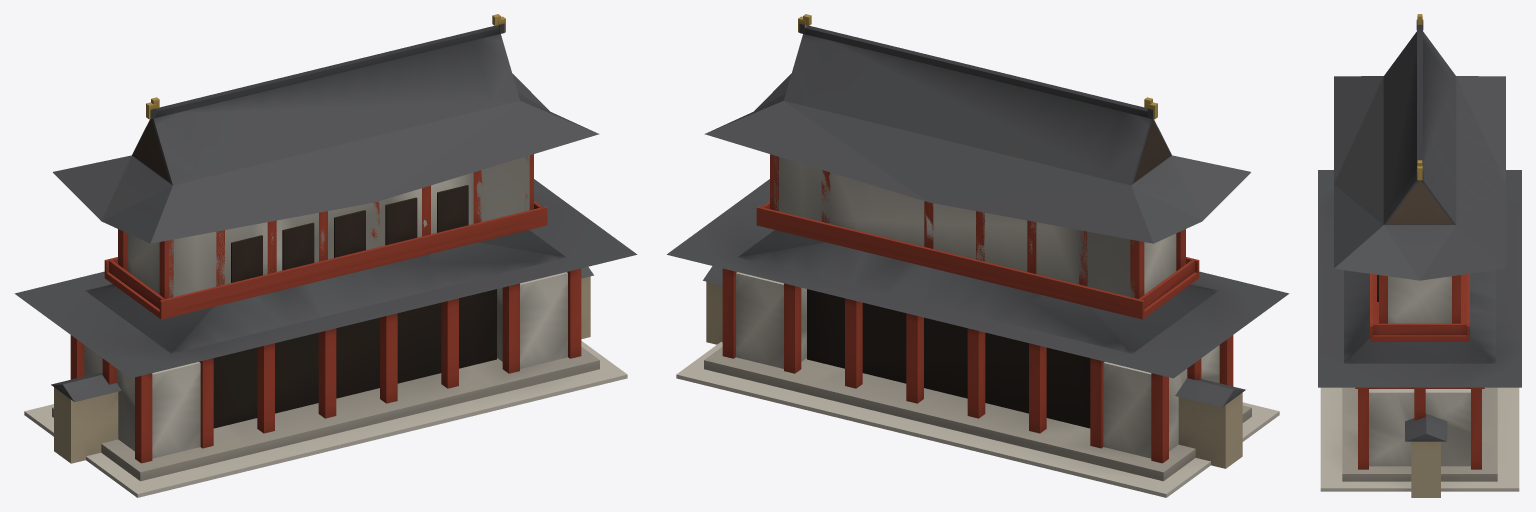
File: rajomon.glb
3 renders of one model, left to right at view 1: azimuth 30°, elevation 25°; view 2: azimuth 150°, elevation 25°; view 3: azimuth 270°, elevation 25°, orthographic. The views are drawn at different scales.
Visible parts, largest first — view 1: p2_roofs, p1_halls, p0_grounds; view 2: p2_roofs, p1_halls, p0_grounds; view 3: p2_roofs, p1_halls, p0_grounds.
Boxes of the visible parts, box(x1,y1,x2,y2) form: p2_roofs: box(14, 14, 637, 378); p1_halls: box(52, 154, 599, 481); p0_grounds: box(24, 267, 627, 497); p2_roofs: box(667, 14, 1289, 378); p1_halls: box(704, 154, 1251, 481); p0_grounds: box(676, 266, 1279, 497); p2_roofs: box(1318, 14, 1521, 387); p1_halls: box(1342, 274, 1497, 481); p0_grounds: box(1320, 387, 1519, 497).
Size of the model in its own units: 42.4 by 26.46 by 16.4.
